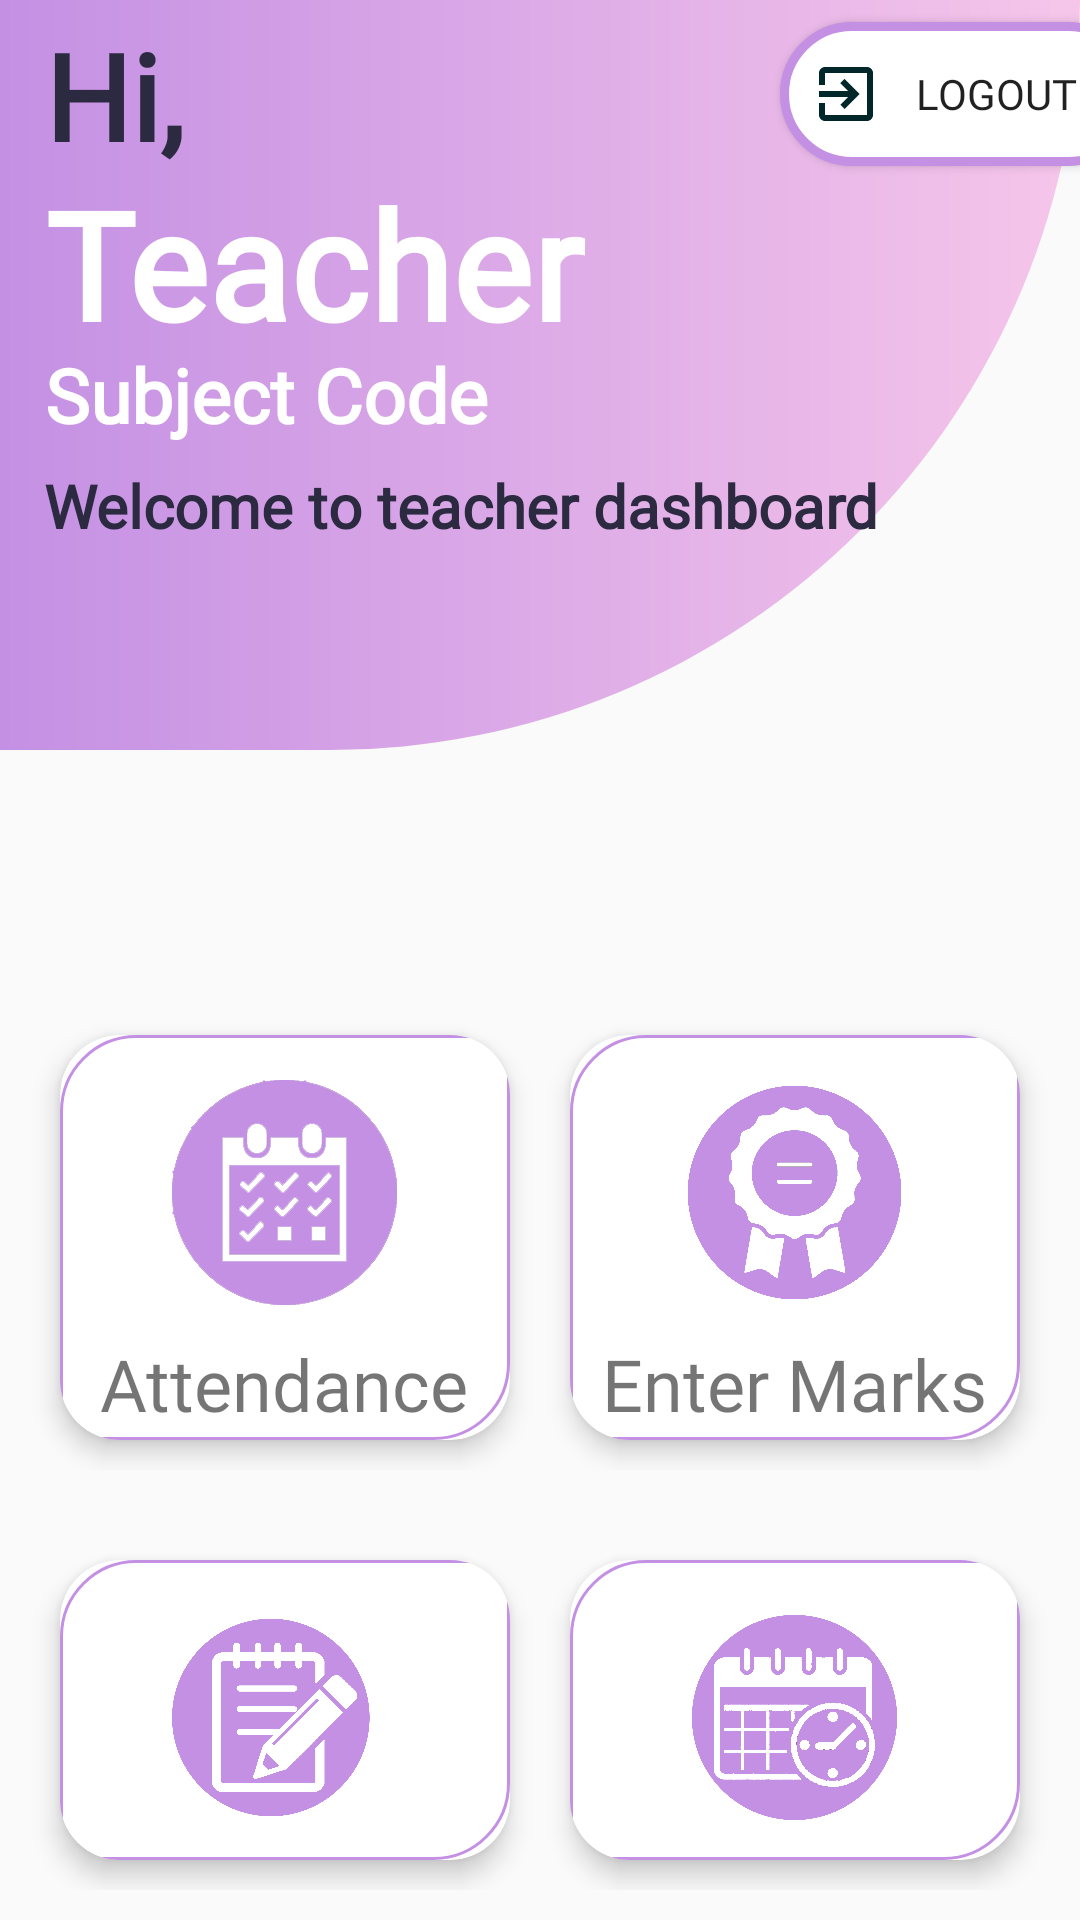

Where icons sit on this 1080px x 1920px app screen, as {"x1": x1, "y1": y1, "x2": x2, "y2": y2}:
notice: {"x1": 172, "y1": 1619, "x2": 370, "y2": 1816}
score card: {"x1": 688, "y1": 1086, "x2": 901, "y2": 1299}
time table: {"x1": 692, "y1": 1615, "x2": 897, "y2": 1820}
